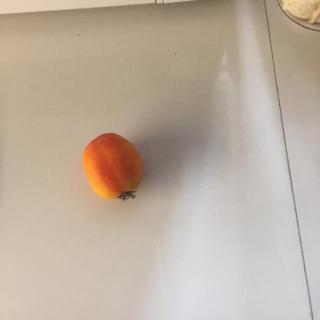Tomat: (69, 132, 161, 215)
